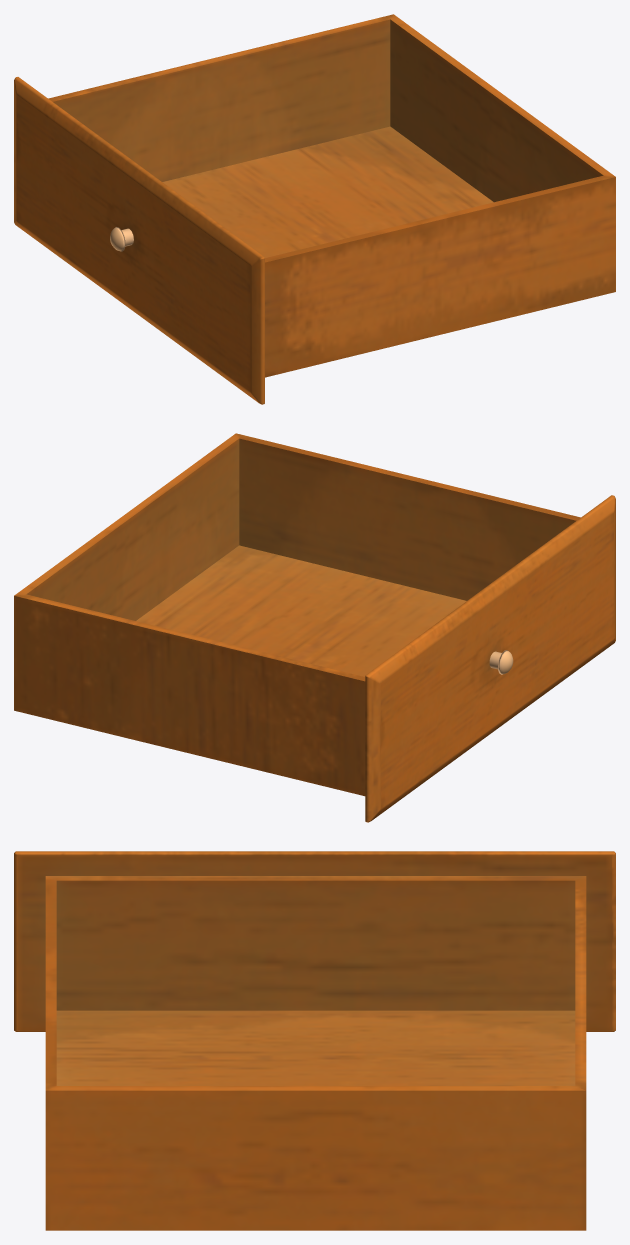
Rendered from SM_Drawer_A1_Cab3.fbx.
3 views of the same model, one above another, from view 1: azimuth 30°, elevation 25°; view 2: azimuth 150°, elevation 25°; view 3: azimuth 270°, elevation 25° (orthographic). The views are drawn at different scales.
Visible parts, largest first — view 1: SM_Drawer_A1_Cab3; view 2: SM_Drawer_A1_Cab3; view 3: SM_Drawer_A1_Cab3.
Boxes of the visible parts, x1,y1,x2,y2 form: SM_Drawer_A1_Cab3: [14, 14, 615, 404]; SM_Drawer_A1_Cab3: [14, 433, 615, 822]; SM_Drawer_A1_Cab3: [14, 851, 615, 1230].
Bounding box in the file's own units: 49.55 × 54.46 × 17.89.
1 material, 1 textured.
